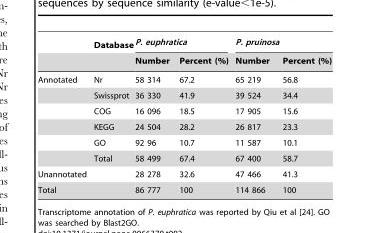table: (37, 37, 331, 194)
table column: (173, 37, 230, 194), (275, 37, 331, 194), (37, 37, 89, 194), (230, 37, 275, 194), (89, 37, 133, 194), (133, 37, 173, 194)
table column header: (37, 37, 331, 70)
table row: (37, 52, 331, 70), (37, 70, 331, 87), (37, 87, 331, 103), (37, 118, 331, 134), (37, 134, 331, 150), (37, 150, 331, 166), (37, 37, 331, 52), (37, 103, 331, 118), (37, 166, 331, 181), (37, 181, 331, 194)
table spanning cell: (37, 70, 89, 166), (230, 37, 331, 52), (133, 37, 230, 52), (89, 37, 133, 70), (37, 181, 133, 194)
